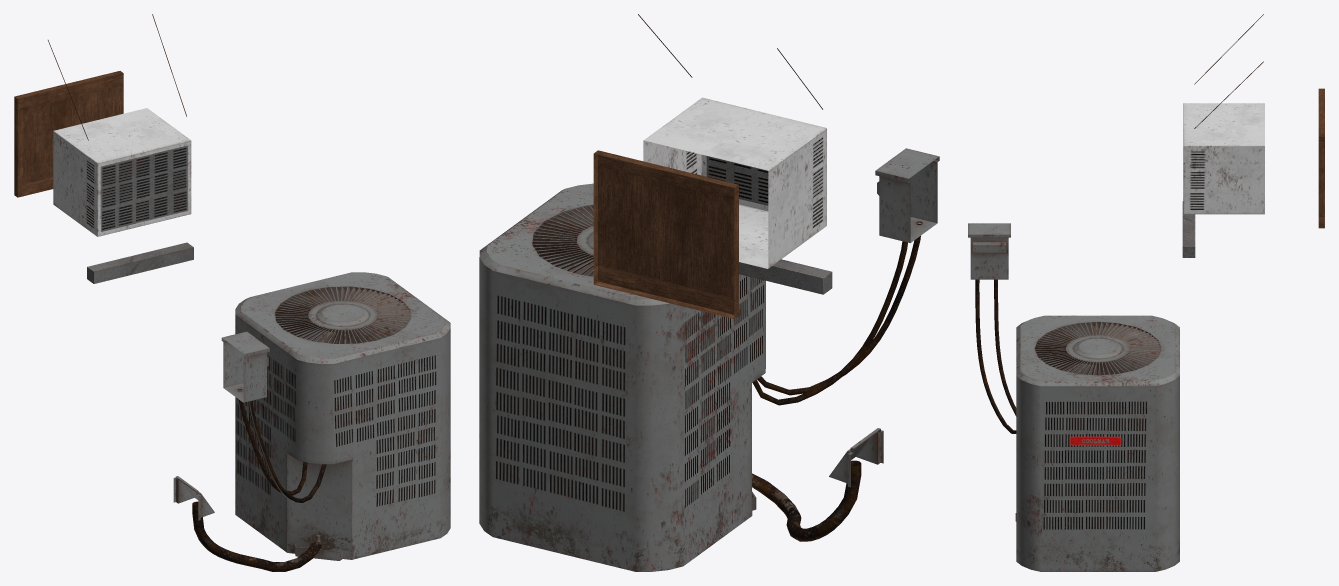
The model's file is ac_units.glb.
3 views of the same model, side by side, from view 1: azimuth 30°, elevation 25°; view 2: azimuth 150°, elevation 25°; view 3: azimuth 270°, elevation 25° (orthographic). The views are drawn at different scales.
Visible parts, largest first — view 1: polySurface1, pCube99, pCube3, pCube96, pCube97, pCube2, pCylinder9, pCylinder2, pCylinder11, pCube98, pCylinder10, polySurface2; view 2: polySurface1, pCube3, pCube99, pCube97, pCylinder9, pCube96, pCube2, pCylinder10, pCylinder11, pCube98; view 3: polySurface1, pCube99, pCube96, pCube97, pCylinder2, pCube3, pCylinder11, pCube2, pCylinder10.
Boxes of the visible parts, box(x1,y1,x2,y2) form: polySurface1: box(235, 272, 450, 559); pCube99: box(53, 108, 191, 236); pCube3: box(14, 71, 123, 197); pCube96: box(275, 287, 410, 343); pCube97: box(221, 331, 269, 402); pCube2: box(87, 242, 193, 283); pCylinder9: box(192, 501, 322, 571); pCylinder2: box(308, 300, 377, 332); pCylinder11: box(248, 401, 326, 502); pCube98: box(173, 476, 214, 520); pCylinder10: box(237, 389, 307, 495); polySurface2: box(287, 543, 352, 560); polySurface1: box(479, 183, 765, 571); pCube3: box(593, 150, 738, 318); pCube99: box(643, 97, 826, 268); pCube97: box(875, 148, 939, 242); pCylinder9: box(752, 460, 861, 541); pCube96: box(532, 205, 593, 275); pCube2: box(739, 259, 832, 294); pCylinder10: box(752, 241, 907, 405); pCylinder11: box(757, 221, 922, 395); pCube98: box(829, 428, 883, 487); polySurface1: box(1016, 315, 1179, 571); pCube99: box(1183, 103, 1264, 214); pCube96: box(1035, 322, 1161, 375); pCube97: box(968, 223, 1010, 279); pCylinder2: box(1066, 335, 1130, 364); pCube3: box(1318, 88, 1324, 228); pCylinder11: box(975, 279, 1016, 433); pCube2: box(1182, 201, 1195, 257); pCylinder10: box(994, 279, 1016, 416).
Size of the model in its own units: 48.05 by 76.42 by 56.6.
Materials: 2 (2 with a texture image).
